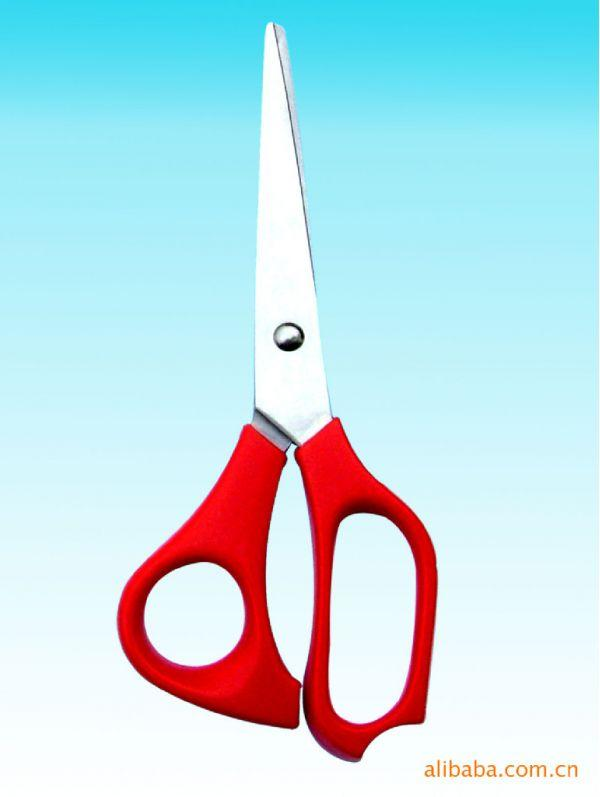scissor: (78, 1, 460, 703)
